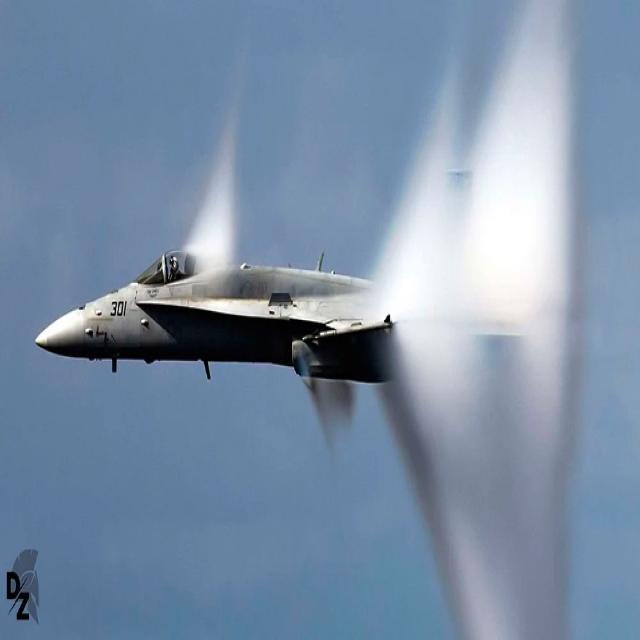jet: (0, 179, 630, 457)
